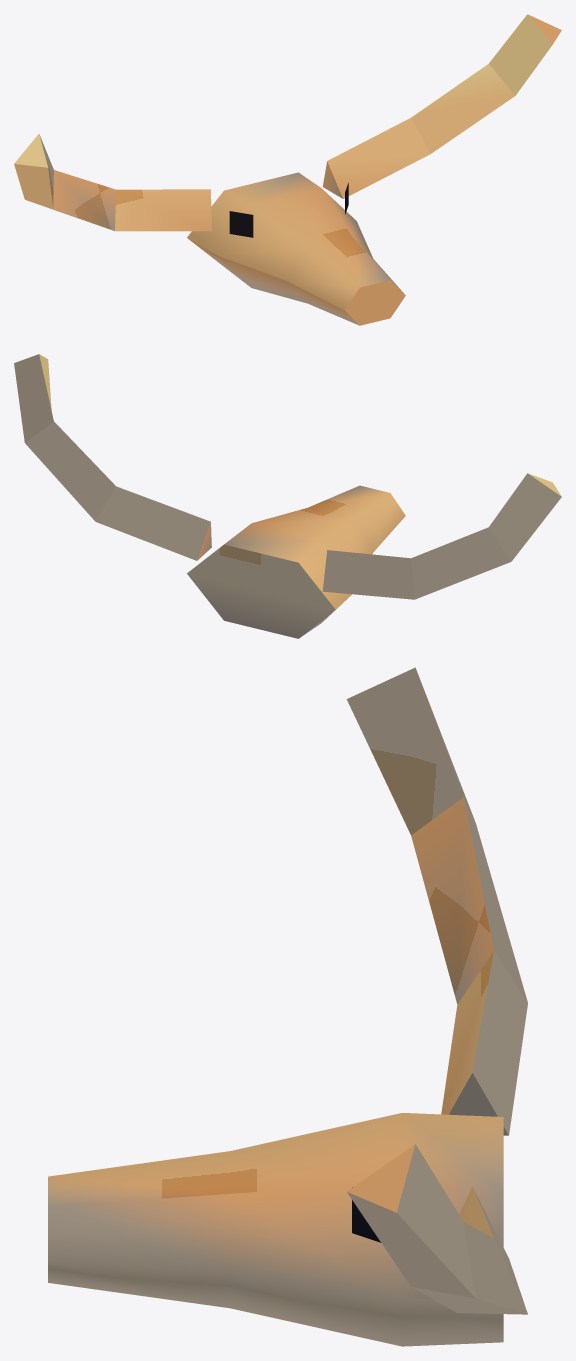
Rendered from wprop.skull.glb.
3 views of the same model, one above another, from view 1: azimuth 30°, elevation 25°; view 2: azimuth 150°, elevation 25°; view 3: azimuth 270°, elevation 25° (orthographic). The views are drawn at different scales.
Visible parts, largest first — view 1: kit_horns, kit_skull, kit_card_eyes; view 2: kit_horns, kit_skull; view 3: kit_skull, kit_horns.
Boxes of the visible parts, bbox=[...] form: kit_horns: bbox=[14, 14, 561, 231]; kit_skull: bbox=[187, 172, 405, 325]; kit_card_eyes: bbox=[229, 183, 348, 237]; kit_horns: bbox=[14, 354, 561, 599]; kit_skull: bbox=[187, 485, 405, 638]; kit_skull: bbox=[48, 1113, 503, 1346]; kit_horns: bbox=[346, 667, 527, 1314].
Size of the model in its own units: 1.25 by 0.4432 by 0.4743.
2 materials, 2 textured.
